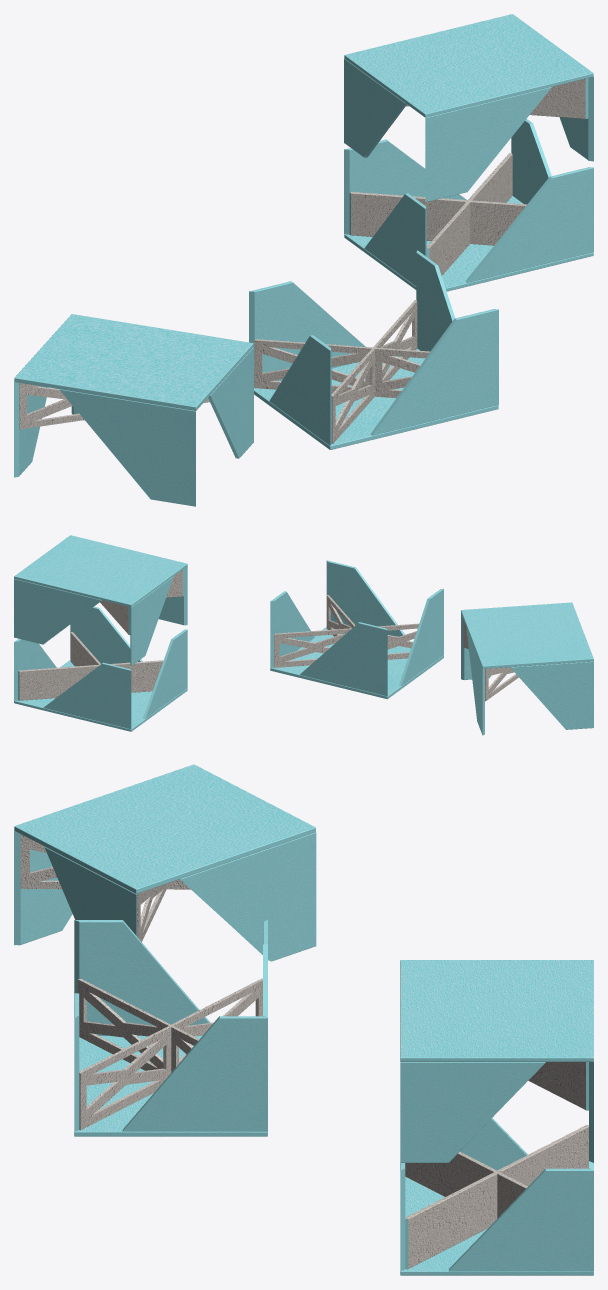
File: Malcolm_Davol_Seniors.obj
3 views of the same model, one above another, from view 1: azimuth 30°, elevation 25°; view 2: azimuth 150°, elevation 25°; view 3: azimuth 270°, elevation 25° (orthographic). The views are drawn at different scales.
Visible parts, largest first — view 1: Malcolm_Davol_Seniors; view 2: Malcolm_Davol_Seniors; view 3: Malcolm_Davol_Seniors.
Boxes of the visible parts, x1,y1,x2,y2 form: Malcolm_Davol_Seniors: [14, 14, 593, 506]; Malcolm_Davol_Seniors: [14, 535, 593, 735]; Malcolm_Davol_Seniors: [14, 764, 593, 1275].
Size of the model in its own units: 142 by 37.22 by 89.75.
Materials: 2 (2 with a texture image).
